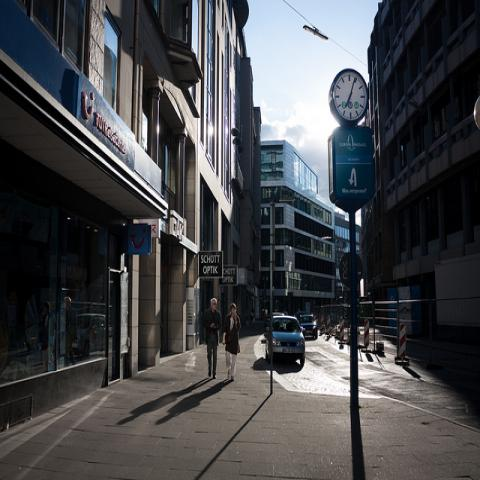car: (266, 316, 306, 366), (300, 315, 318, 339), (295, 312, 308, 321), (272, 311, 286, 316)
